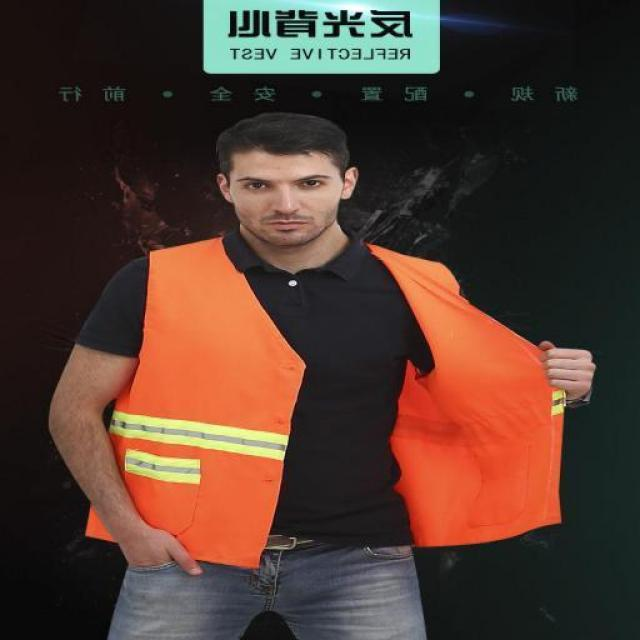vest: (132, 249, 291, 549)
